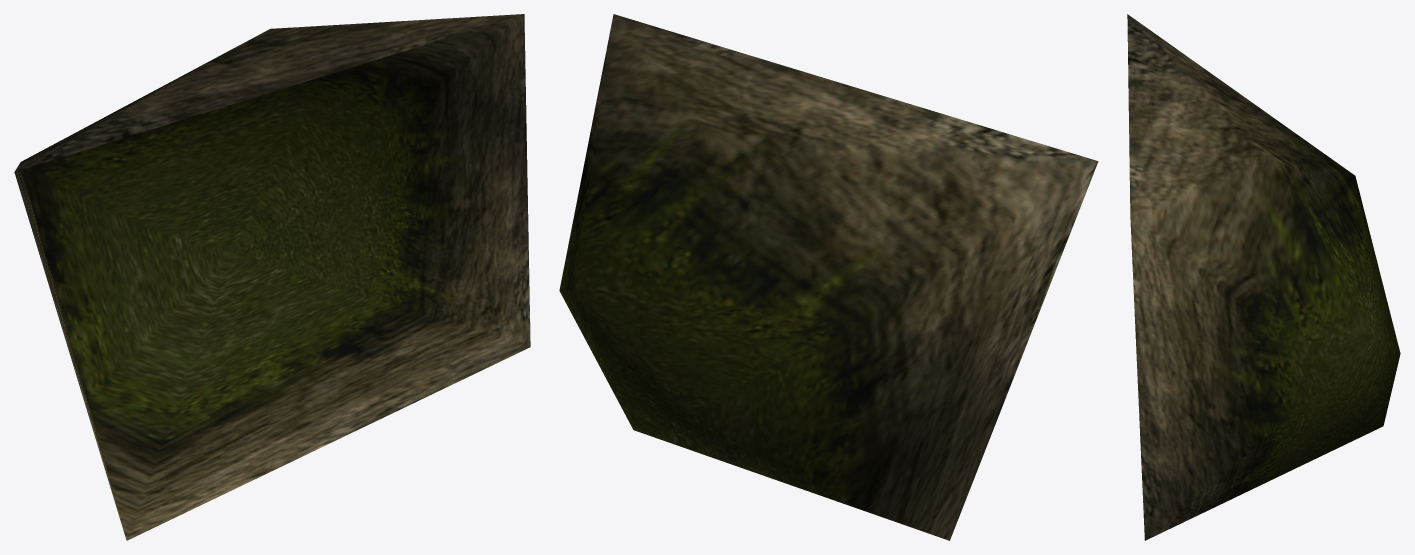
Rendered from MEP_Edge_smStone_07.fbx.
3 views of the same model, side by side, from view 1: azimuth 30°, elevation 25°; view 2: azimuth 150°, elevation 25°; view 3: azimuth 270°, elevation 25° (orthographic). The views are drawn at different scales.
Parts seen in each view (by area): view 1: MEP_Edge_smStone_07; view 2: MEP_Edge_smStone_07; view 3: MEP_Edge_smStone_07.
Part boxes in pixels (bbox=[...]): MEP_Edge_smStone_07: bbox=[14, 14, 530, 540]; MEP_Edge_smStone_07: bbox=[559, 14, 1098, 540]; MEP_Edge_smStone_07: bbox=[1127, 14, 1400, 540].
Bounding box in the file's own units: 5.01 × 4.1 × 2.43.
